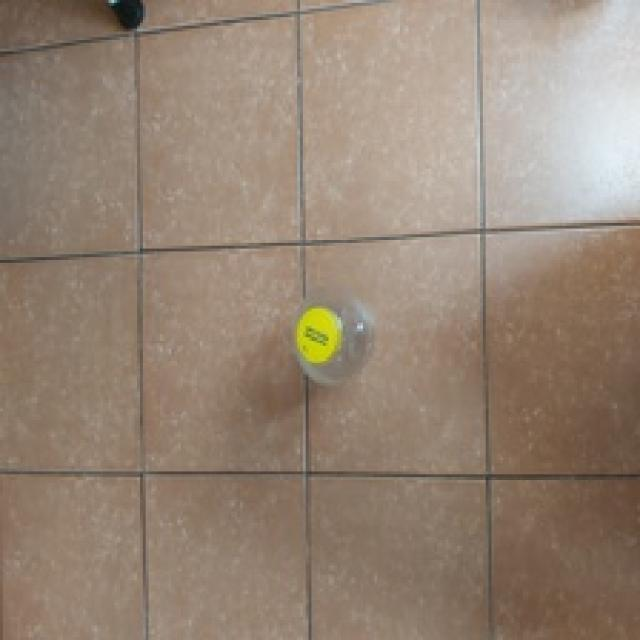Plastic: (287, 282, 379, 388)
